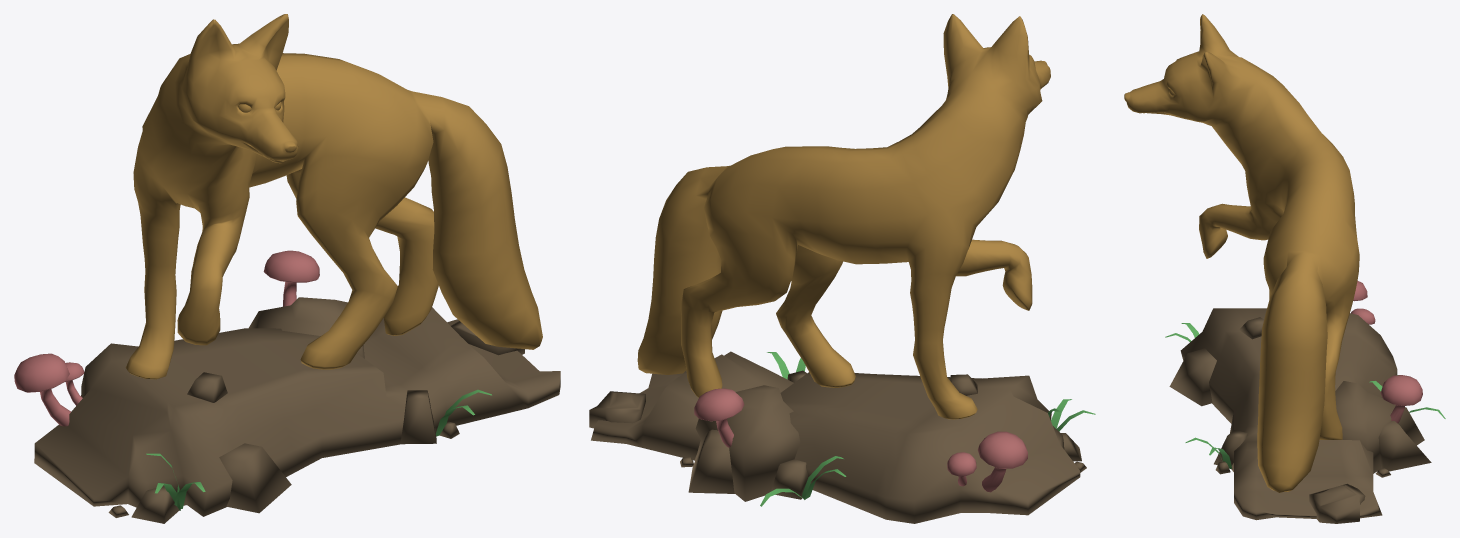
File: Fox Model v15 (Final FBX).fbx
3 views of the same model, side by side, from view 1: azimuth 30°, elevation 25°; view 2: azimuth 150°, elevation 25°; view 3: azimuth 270°, elevation 25° (orthographic). The views are drawn at different scales.
Parts seen in each view (by area): view 1: polySurface18_e_64_4, pCube19, polySurface19, pPlane13; view 2: polySurface18_e_64_4, pCube19, polySurface19, pPlane13; view 3: polySurface18_e_64_4, pCube19, polySurface19, pPlane13.
Part boxes in pixels (x1,y1,x2,y2): polySurface18_e_64_4: (125, 14, 542, 379); pCube19: (34, 297, 560, 523); polySurface19: (14, 250, 319, 426); pPlane13: (146, 389, 491, 510); polySurface18_e_64_4: (637, 14, 1050, 419); pCube19: (589, 351, 1086, 523); polySurface19: (694, 388, 1027, 492); pPlane13: (760, 352, 1095, 506); polySurface18_e_64_4: (1124, 14, 1359, 492); pCube19: (1169, 308, 1431, 523); polySurface19: (1351, 281, 1422, 423); pPlane13: (1165, 323, 1445, 468).
Bounding box in the file's own units: 5.07 × 4.78 × 3.81.
